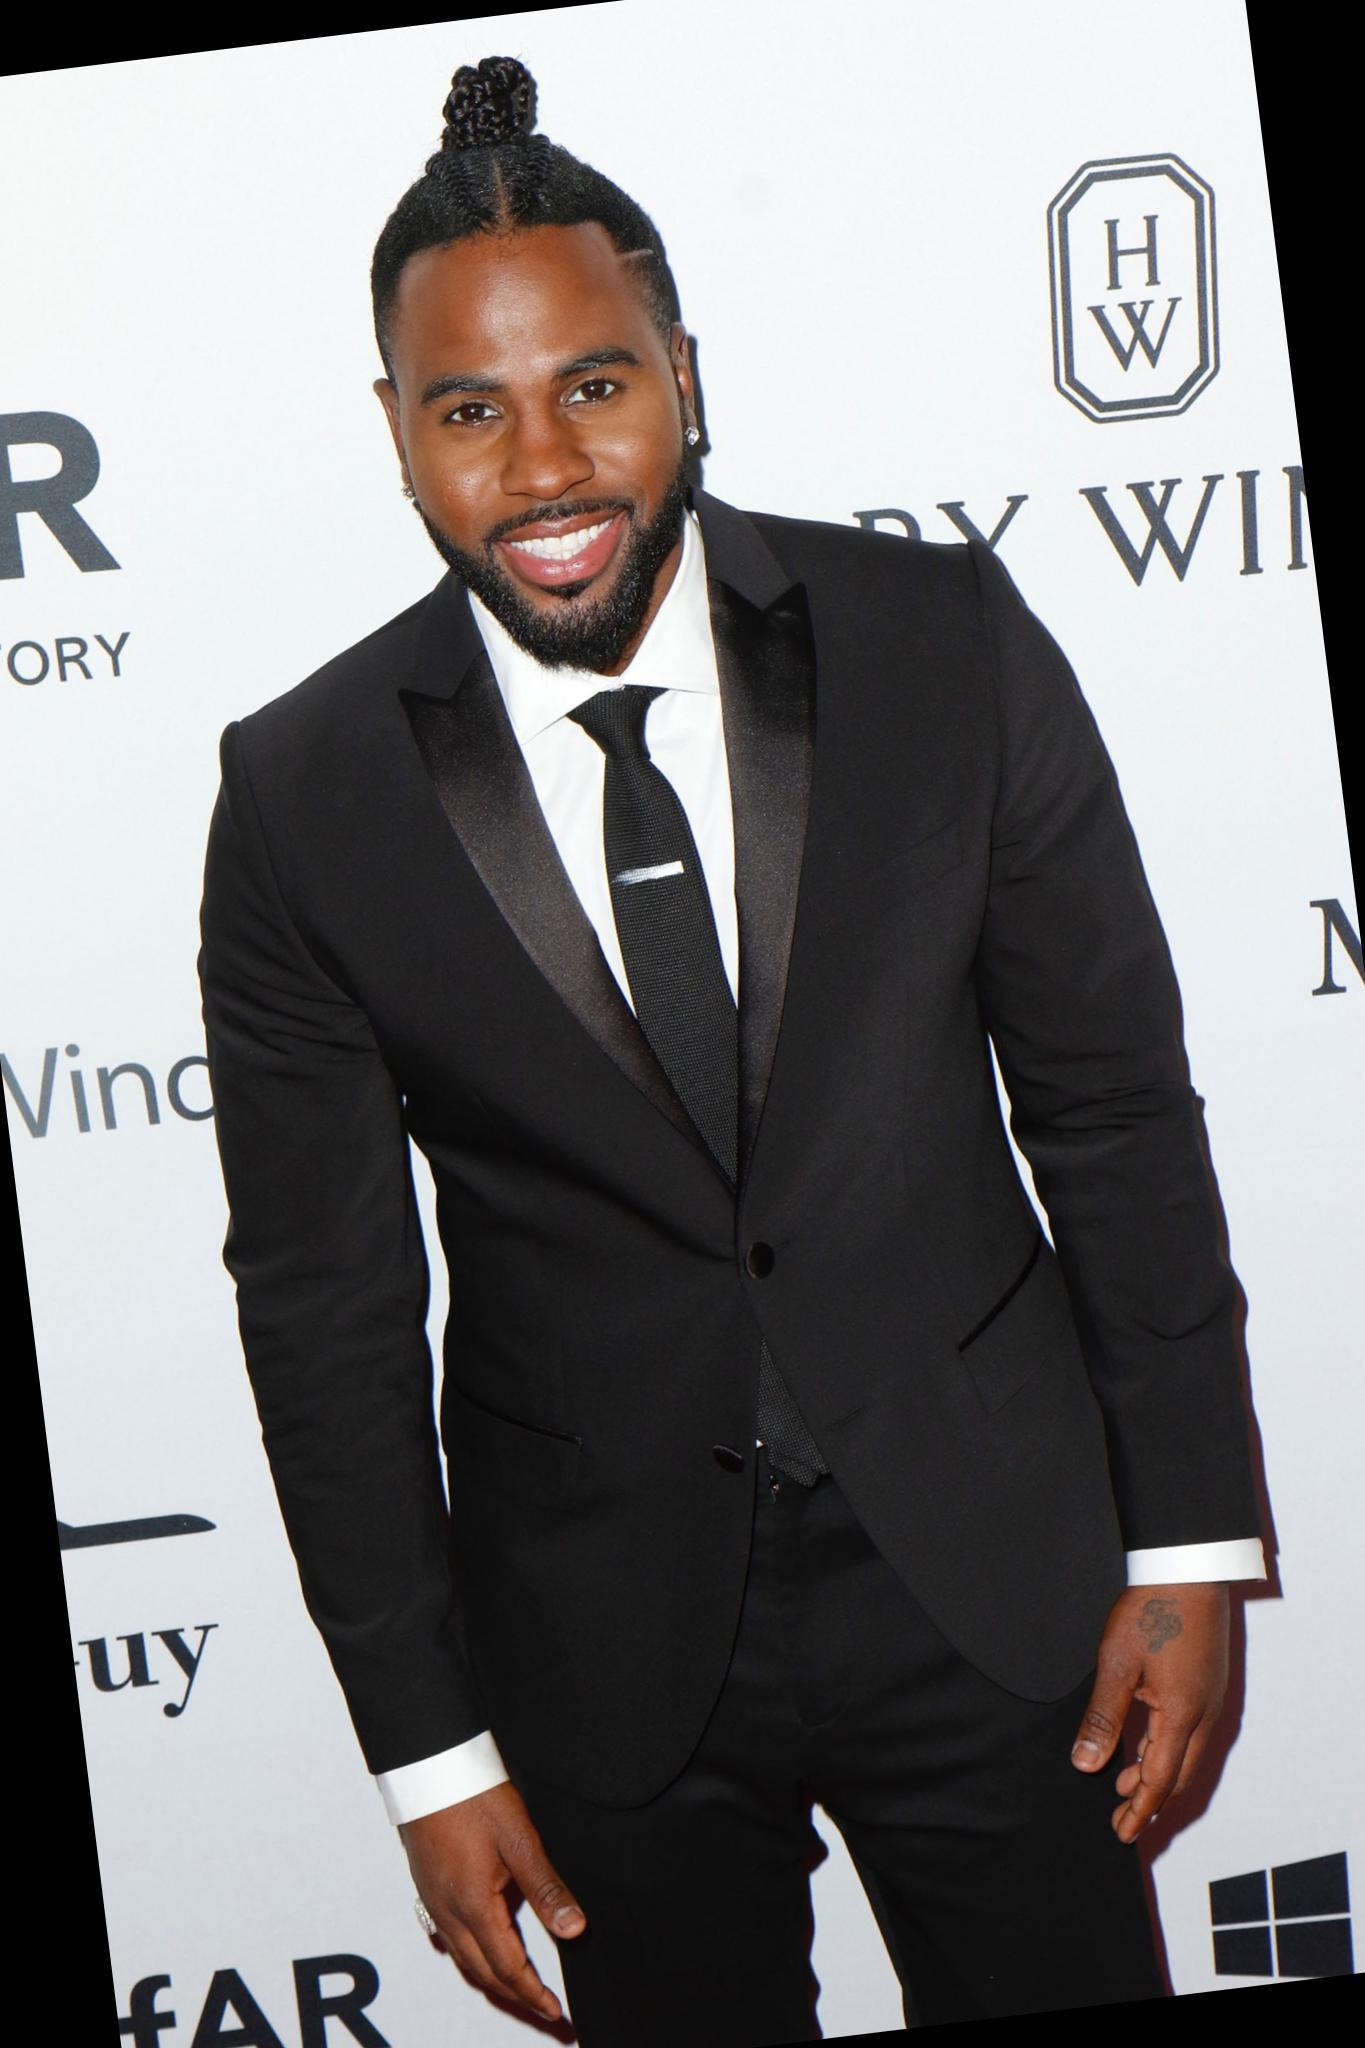Sober: (392, 247, 702, 621)
